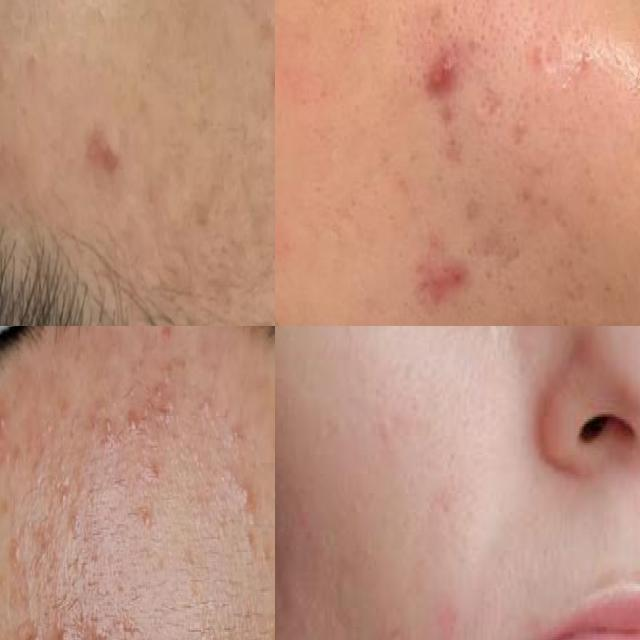acne_scars: (414, 240, 481, 326)
comedone: (18, 30, 50, 99), (191, 381, 217, 455), (134, 502, 165, 561), (101, 390, 123, 465), (249, 0, 275, 52), (240, 472, 260, 533), (57, 604, 85, 640), (126, 409, 142, 470), (0, 403, 15, 451), (27, 613, 43, 640)
papule: (82, 112, 136, 189)
sebo-crystan-conglo: (412, 27, 478, 107)
